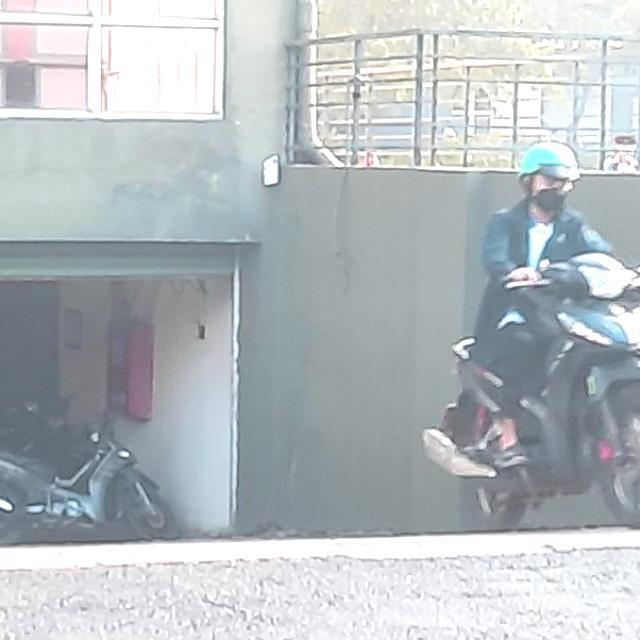Helmet: (522, 141, 576, 208)
